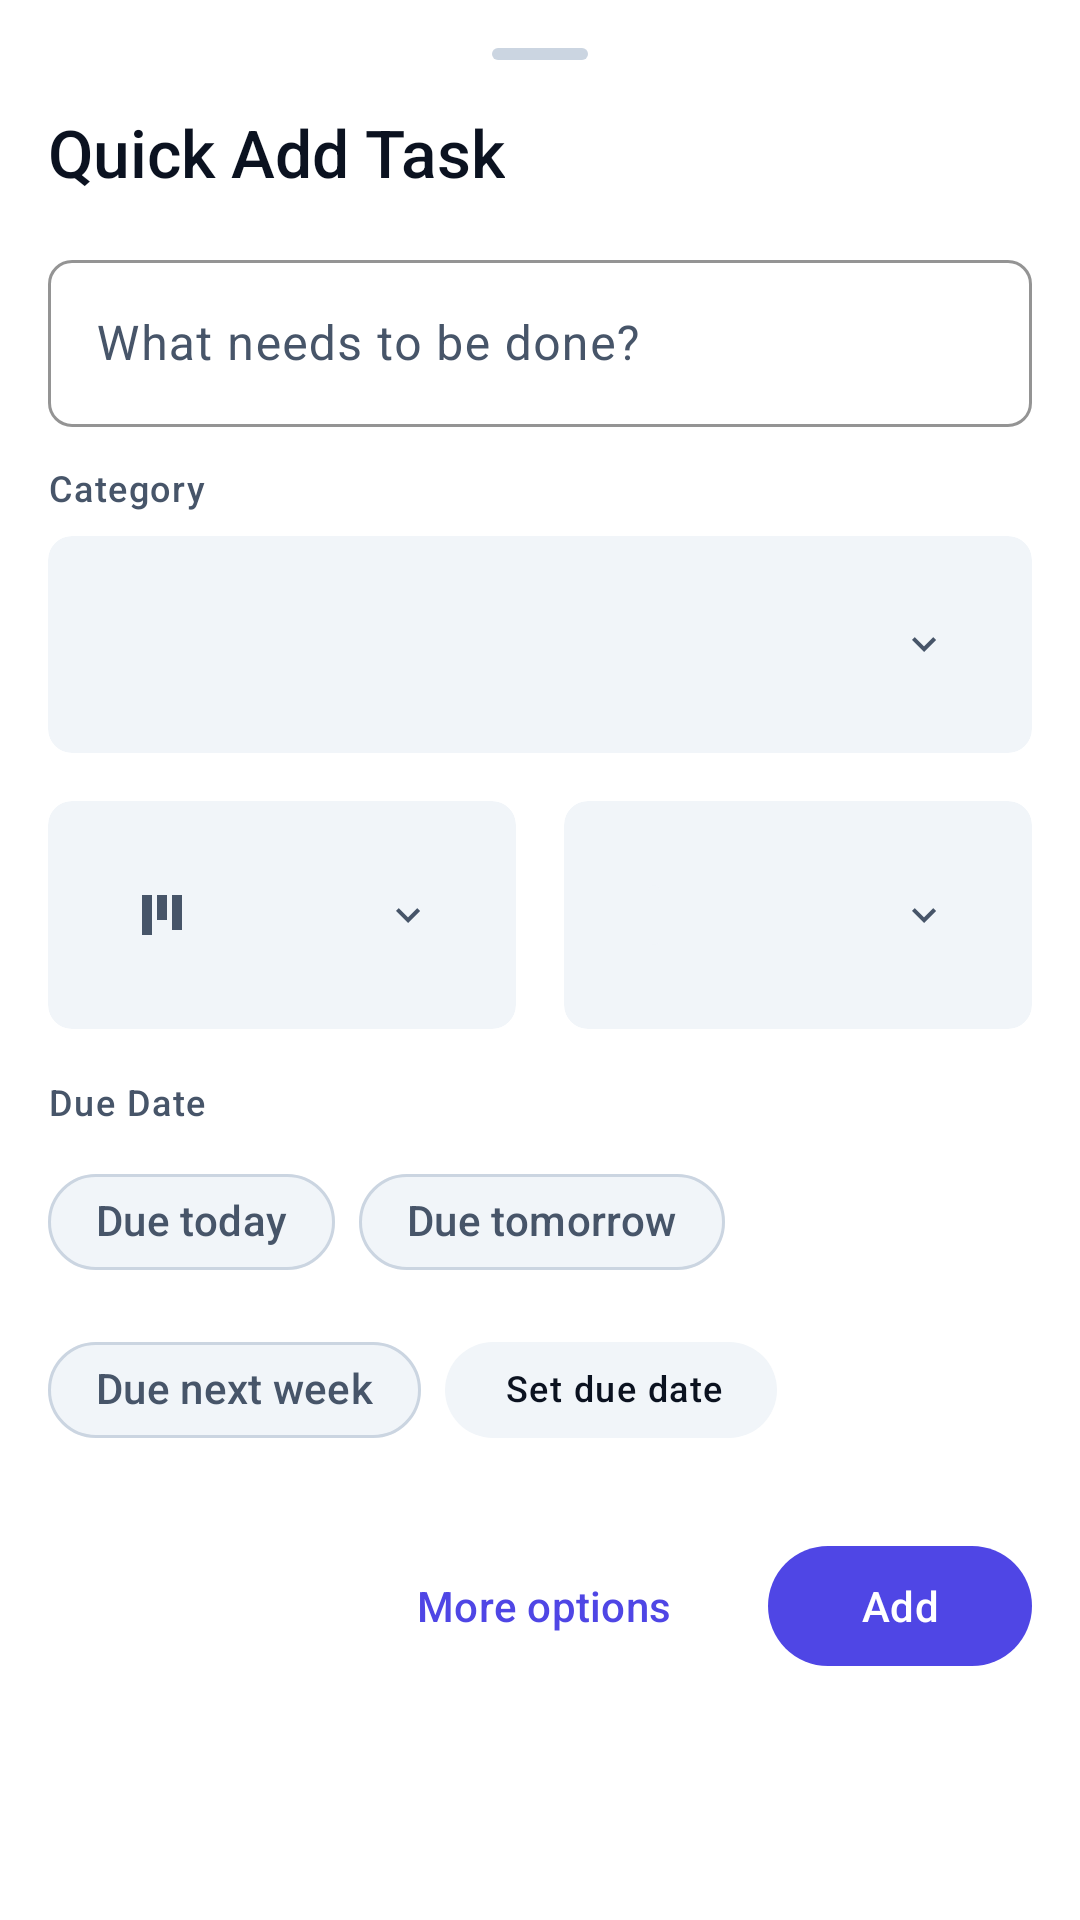

Where to tap for icons on this 1080*1920 app screen, as point (x, y):
board: point (162, 915)
expand more: point (924, 644), point (408, 915), point (924, 915)
